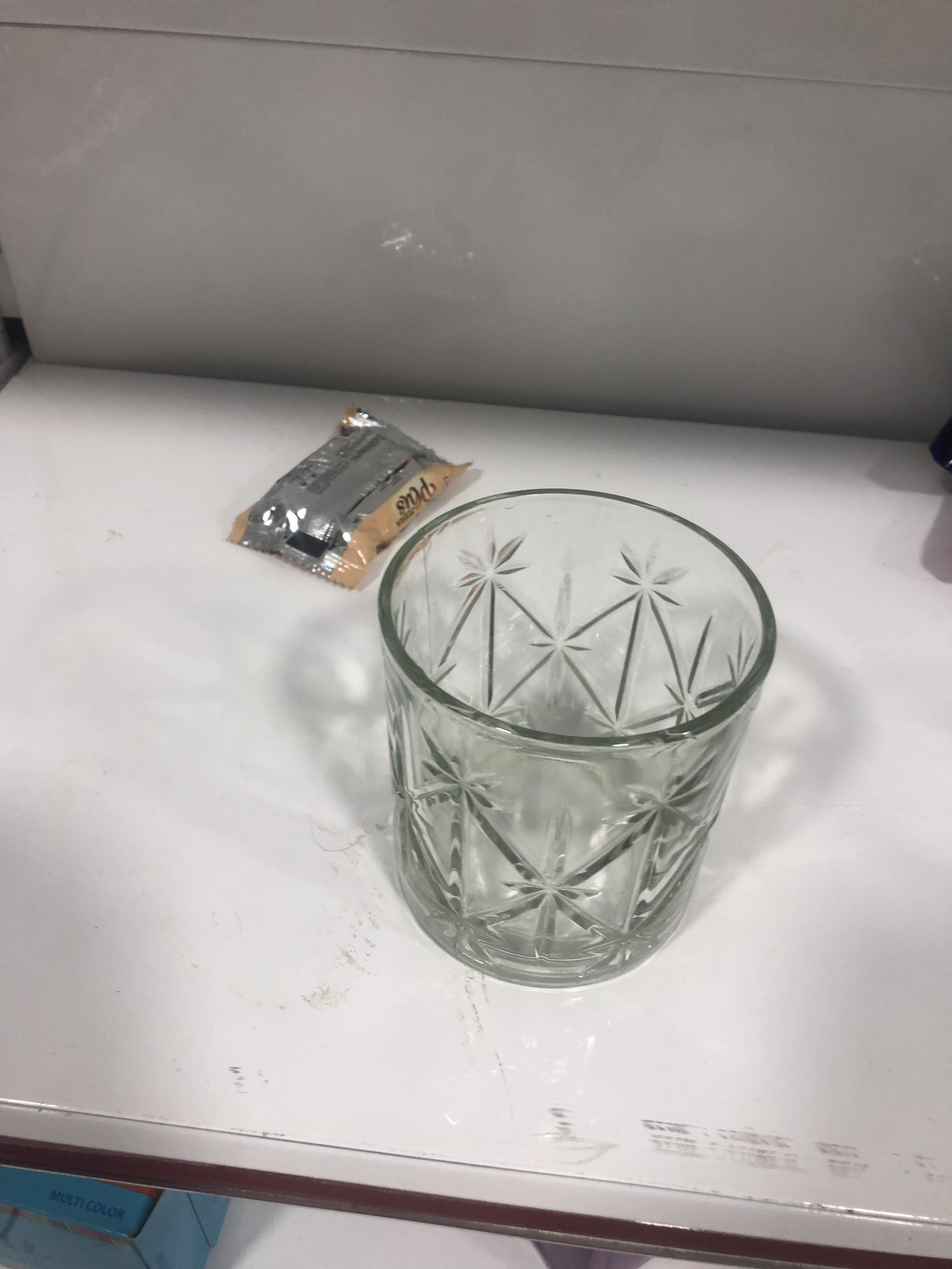glass-normal: (376, 470, 777, 995)
